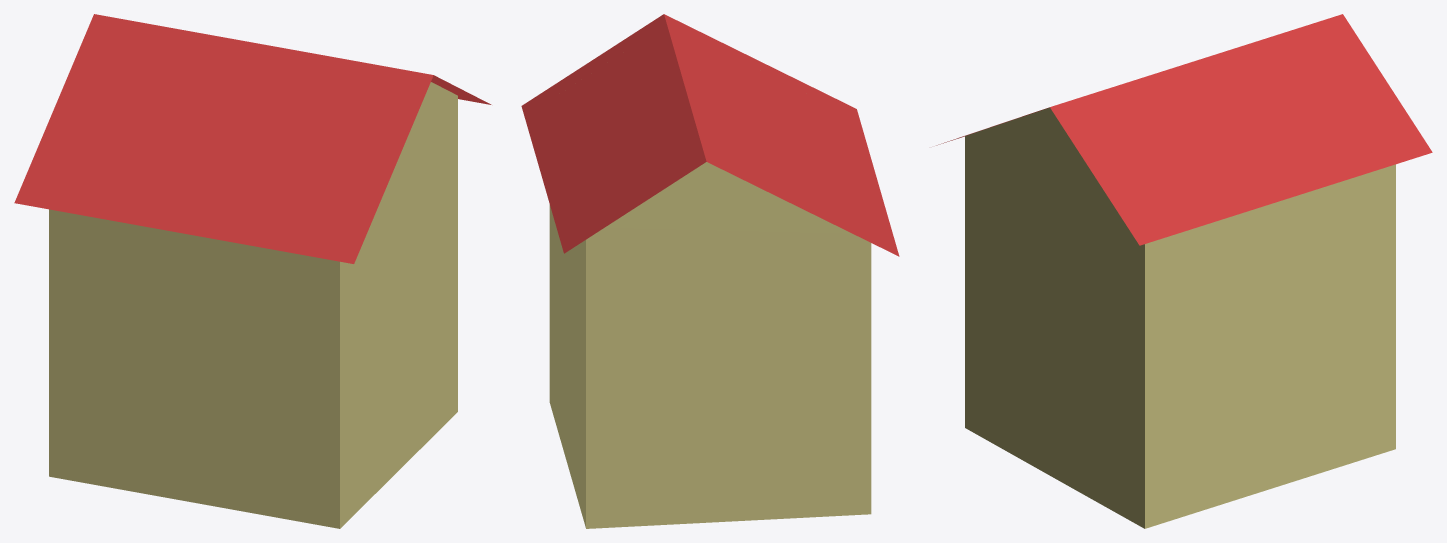
3 views of the same model, side by side, from view 1: azimuth 30°, elevation 25°; view 2: azimuth 150°, elevation 25°; view 3: azimuth 270°, elevation 25° (orthographic). The views are drawn at different scales.
Bounding box in the file's own units: 9.51 × 9.57 × 8.1.
